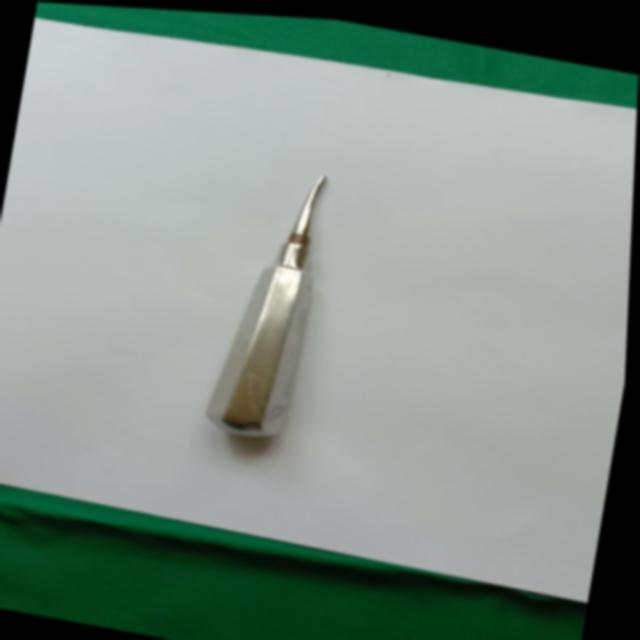Coupland1: (194, 146, 342, 449)
